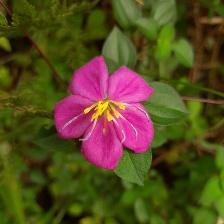malabar melastome: (51, 54, 157, 174)
